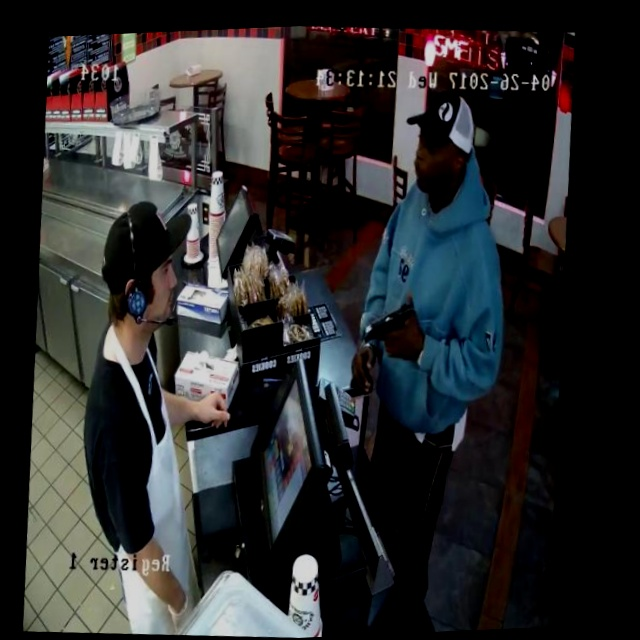gun: (346, 280, 436, 363)
